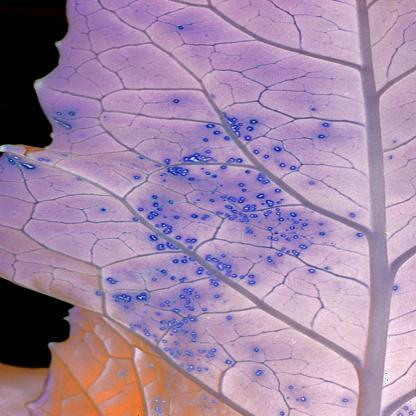Tomato leaf late blight: (21, 11, 415, 402)
